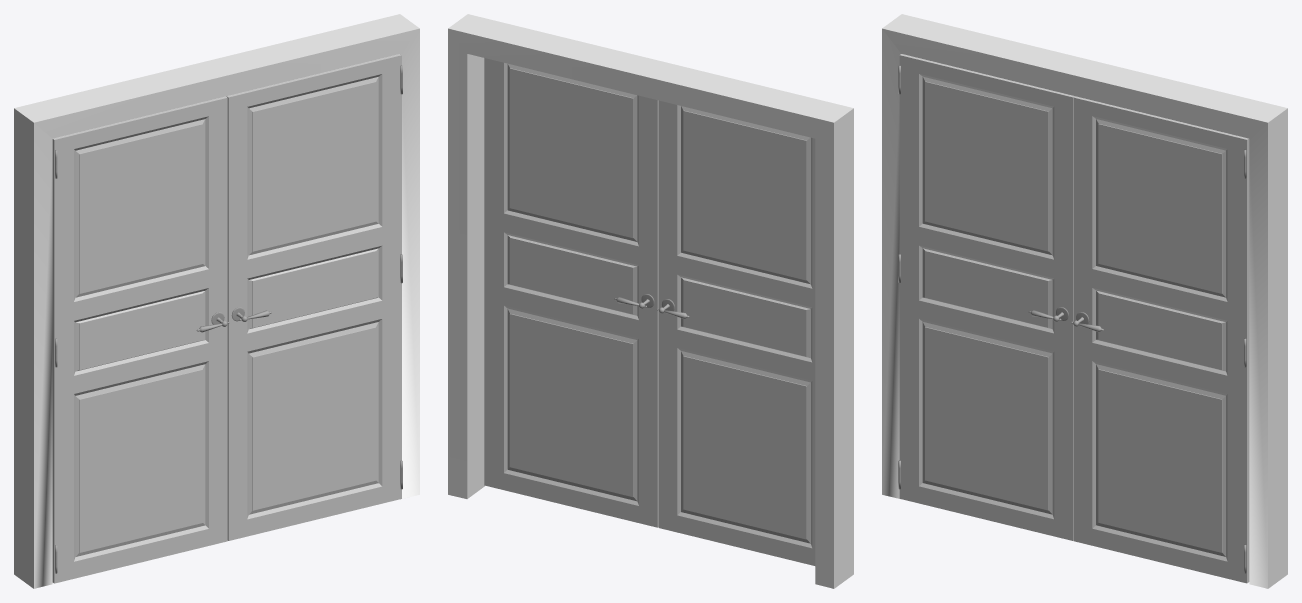
File: 2025-07-03T1615-PanelDoorDouble004.glb
The picture shows the model from 3 angles, left to right: view 1: azimuth 30°, elevation 25°; view 2: azimuth 150°, elevation 25°; view 3: azimuth 330°, elevation 25°; orthographic projection.
Parts seen in each view (by area): view 1: DoorDoubleDoor001[door], DoorDoubleFrame001[doorframe], DoorDoubleKnob001[door]; view 2: DoorDoubleDoor001[door], DoorDoubleFrame001[doorframe], DoorDoubleKnob001[door]; view 3: DoorDoubleDoor001[door], DoorDoubleFrame001[doorframe], DoorDoubleKnob001[door], DoorDoubleHinge001[door].
Part boxes in pixels (left/top/right/bottom): DoorDoubleDoor001[door]: left=52, top=54, right=401, bottom=583; DoorDoubleFrame001[doorframe]: left=14, top=14, right=419, bottom=588; DoorDoubleKnob001[door]: left=196, top=307, right=271, bottom=332; DoorDoubleDoor001[door]: left=484, top=58, right=815, bottom=565; DoorDoubleFrame001[doorframe]: left=448, top=14, right=853, bottom=588; DoorDoubleKnob001[door]: left=614, top=294, right=689, bottom=318; DoorDoubleDoor001[door]: left=899, top=54, right=1249, bottom=583; DoorDoubleFrame001[doorframe]: left=882, top=14, right=1287, bottom=588; DoorDoubleKnob001[door]: left=1028, top=307, right=1103, bottom=332; DoorDoubleHinge001[door]: left=898, top=65, right=1246, bottom=573.
Bounding box in the file's own units: 1.82 × 2.1 × 0.2417.
Materials: 4 (3 with a texture image).
